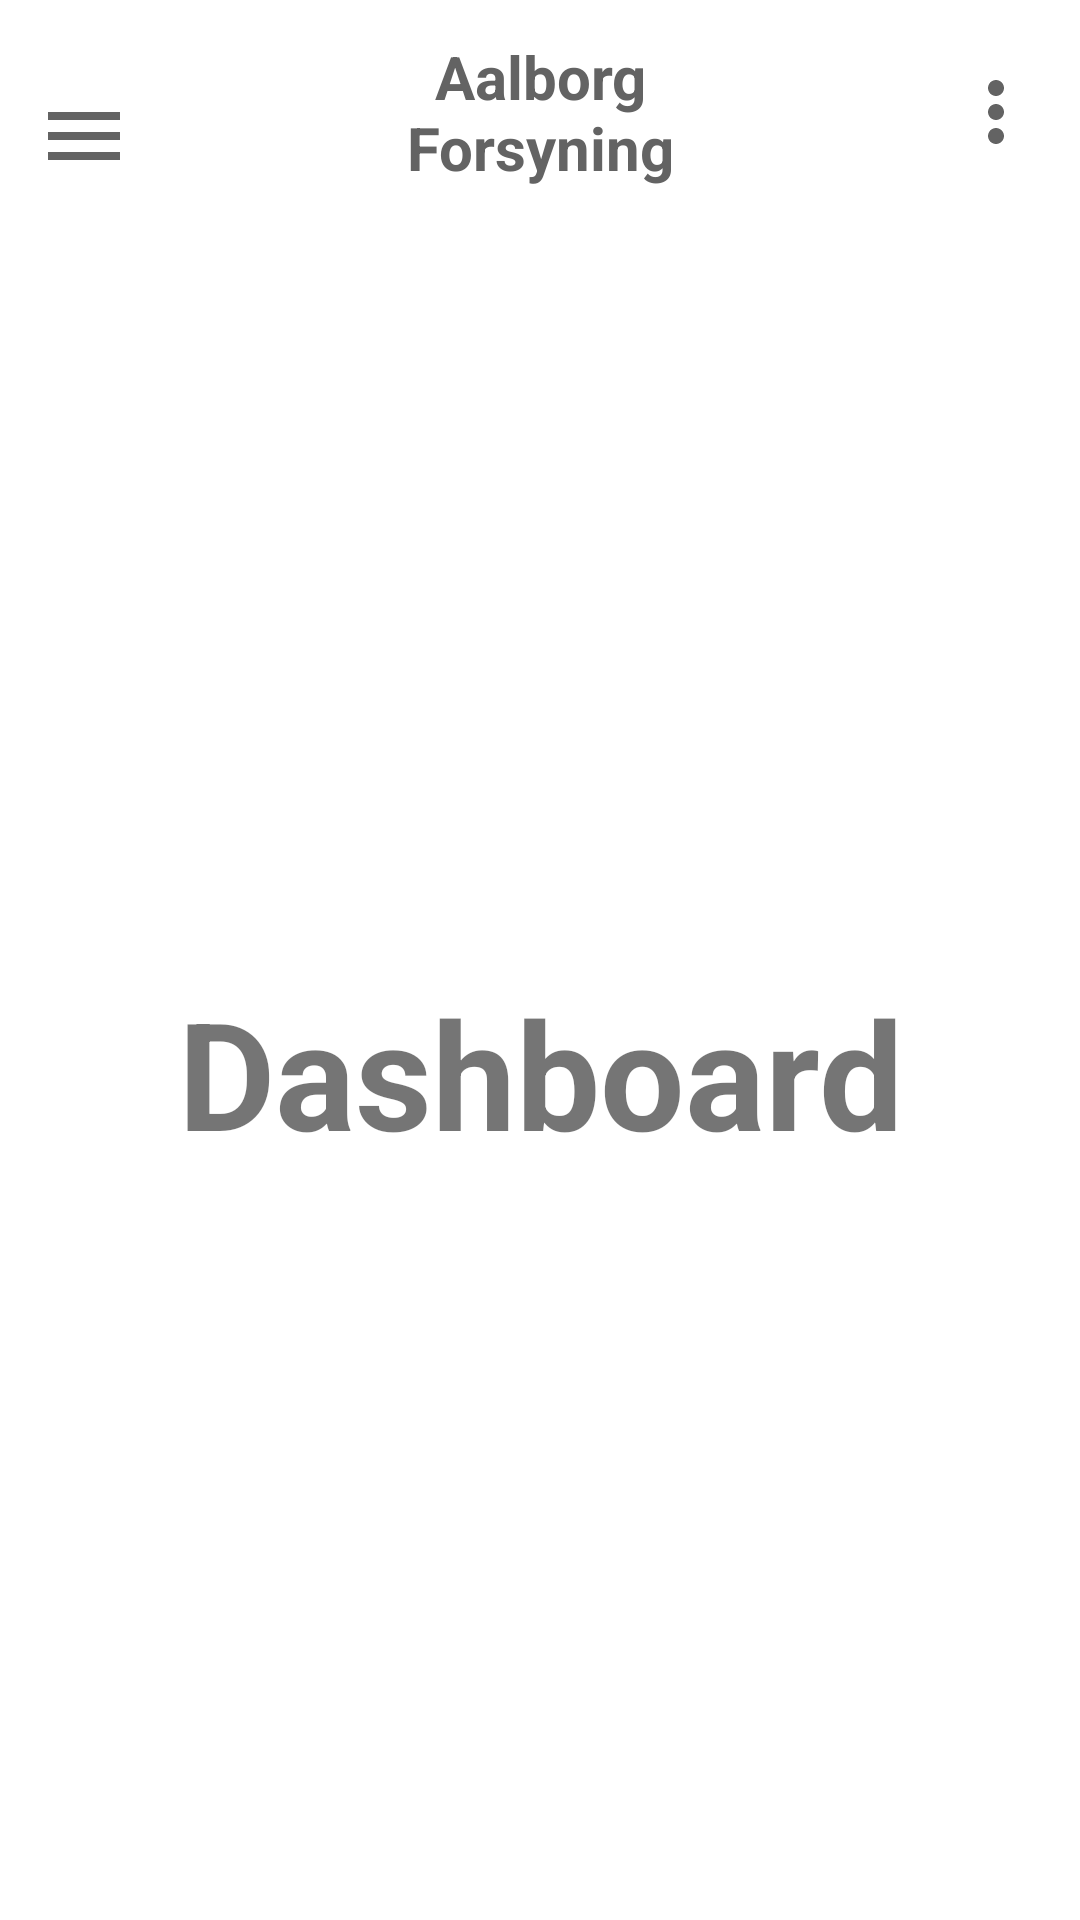

Icon click points for this 1080 x 1920 phone screenshot, format (x=x, y=y):
menu: (x=84, y=136)
more: (x=996, y=112)
